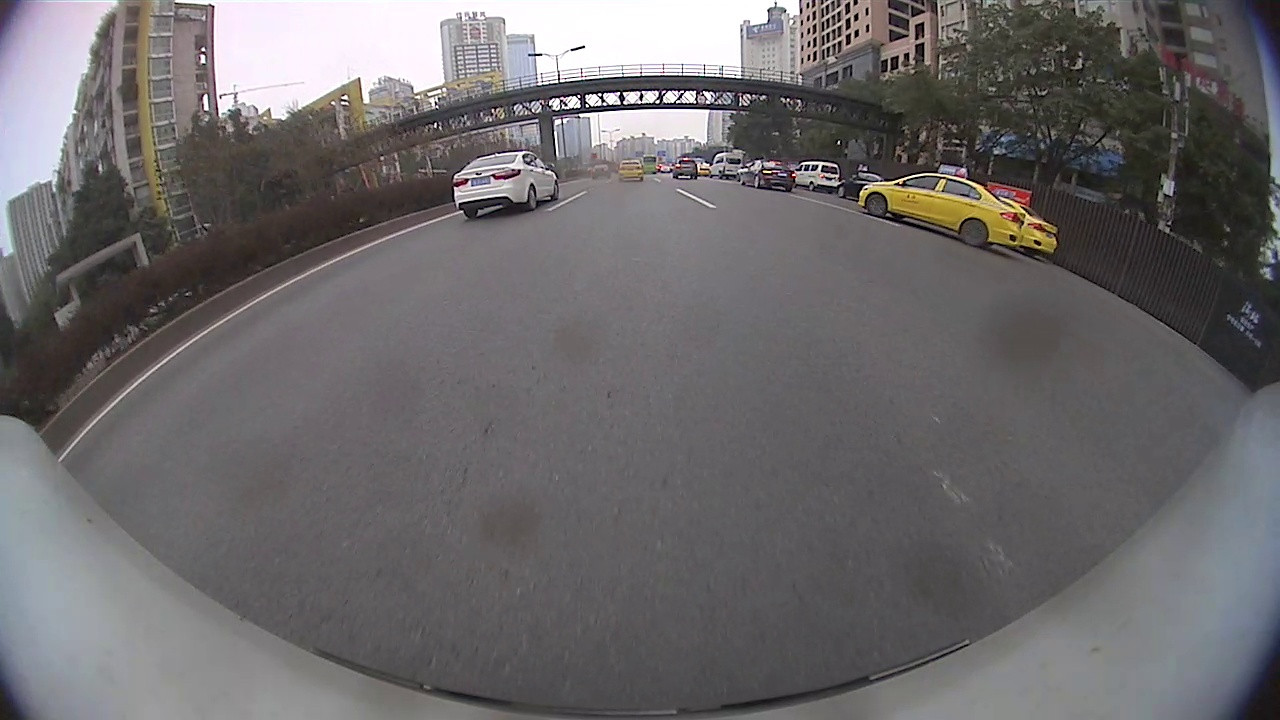car: (856, 163, 1022, 245), (451, 151, 560, 219), (982, 193, 1058, 254), (740, 159, 797, 193), (795, 160, 839, 191), (837, 172, 884, 200), (710, 150, 747, 180), (671, 159, 700, 181), (619, 160, 644, 182)
front: (864, 192, 892, 222)
rear: (957, 215, 994, 249), (526, 185, 539, 214)
